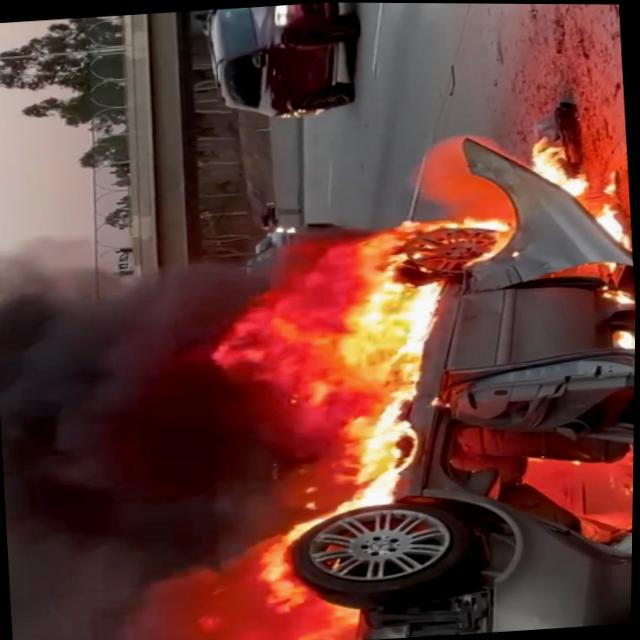fire: (188, 208, 514, 427), (125, 519, 309, 640), (324, 413, 425, 503)
smoke: (0, 240, 173, 467), (3, 446, 250, 533)
